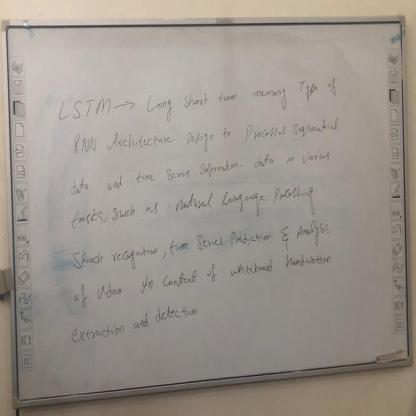Handwritten text: (67, 235, 341, 313), (52, 65, 348, 129), (65, 205, 335, 275), (66, 102, 346, 166), (63, 138, 342, 199), (63, 175, 327, 239), (60, 290, 207, 352)
Whiteboard: (7, 14, 412, 409)
